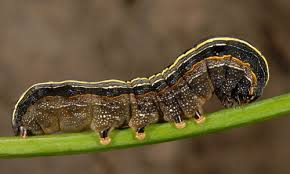Armyworm: (15, 26, 273, 125)
